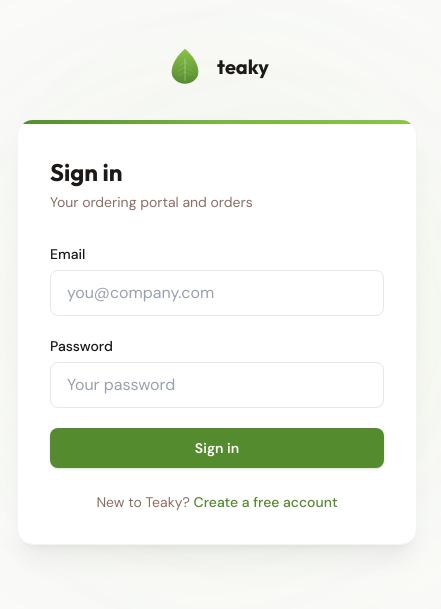
LoginPage sign-in flow › clean browser, wrong password: the red error renders and the button comes back
Type "buyer@example.com" into the field labelled "Email" at (217,293), box [50,270,384,316]
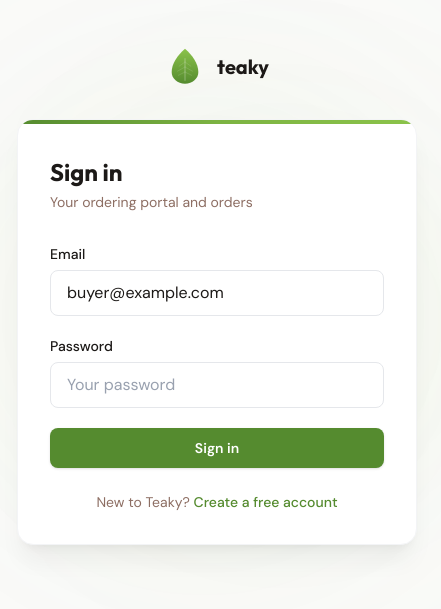
Type "wrong" into the password field labelled "Password" at (217,385), box [50,362,384,408]
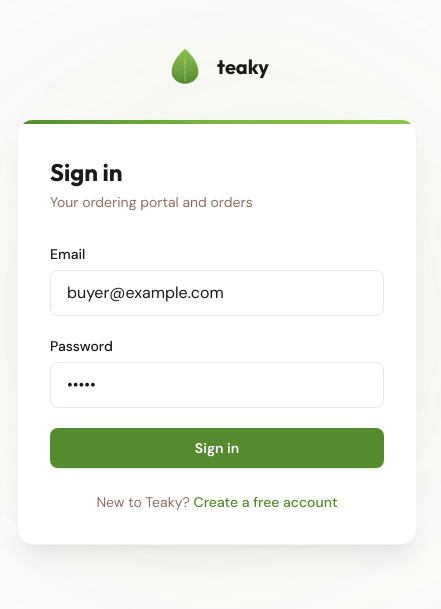
Click the button "Sign in" at (217,448), box [50,428,384,468]
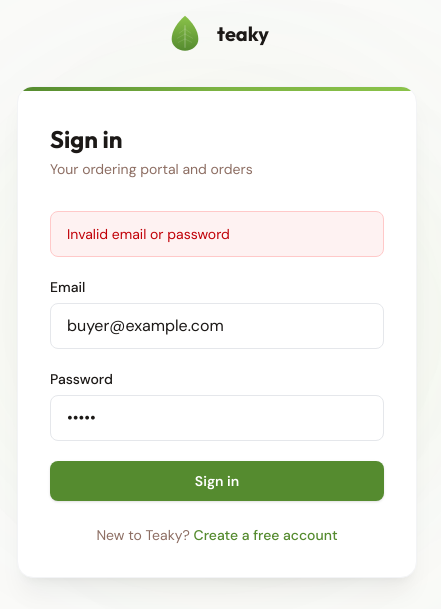
Expected: the button "Sign in" is enabled, [50,461,384,501]
Expected: the text "Invalid email or password" is shown, [50,211,384,257]
